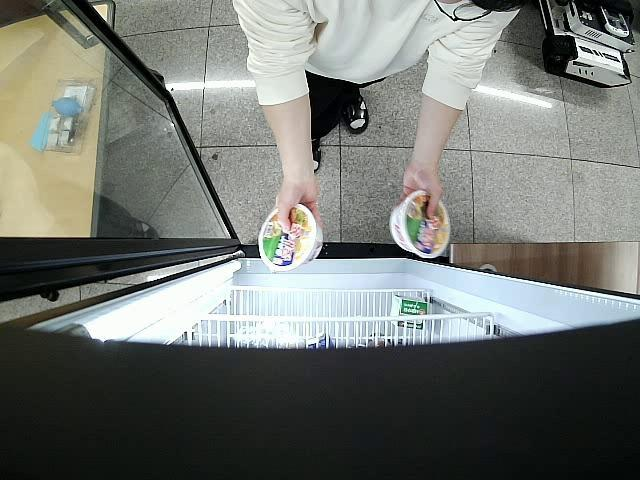09_yukGaeJang: (260, 202, 324, 273), (392, 190, 452, 259)
